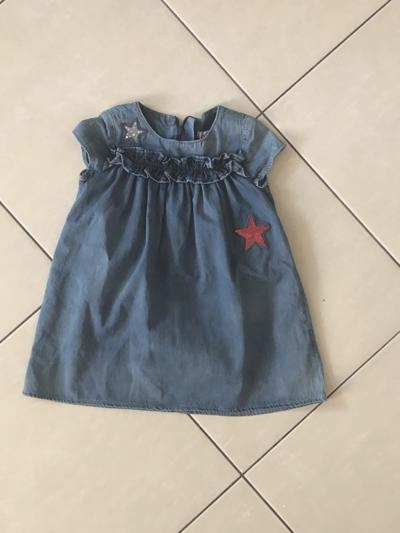Dress: (27, 45, 341, 420)
